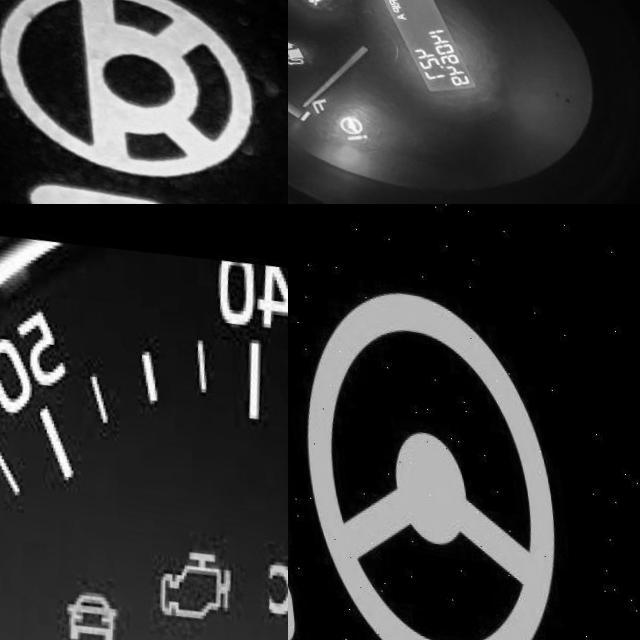Electronic Power Steering: (0, 0, 255, 204), (326, 99, 368, 138)
Electronic Power Steering Warning: (288, 257, 556, 640)
